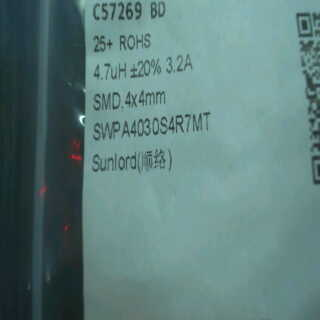4.7uH: (90, 57, 128, 81)
